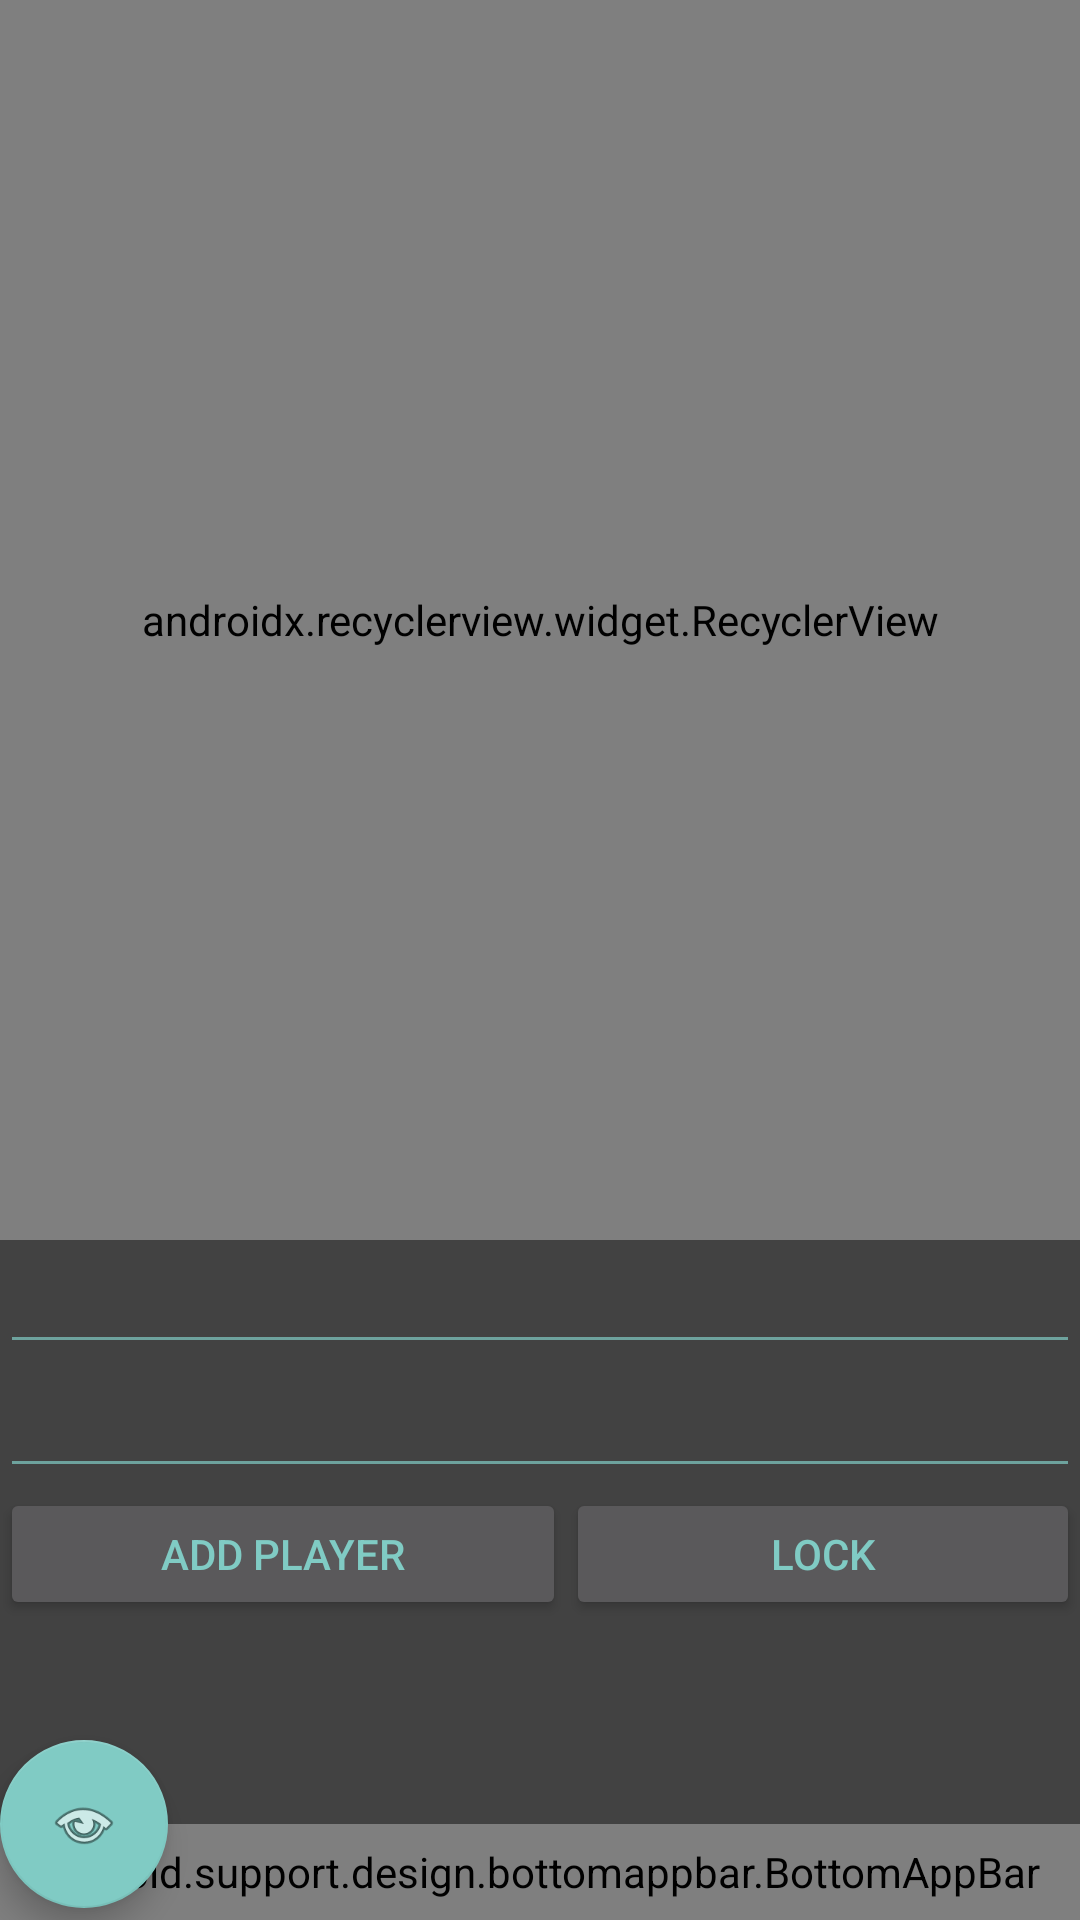

Where to tap for icons on this 1080px x 1920px app screen, as (x=x, y=y):
view: (x=84, y=1824)
